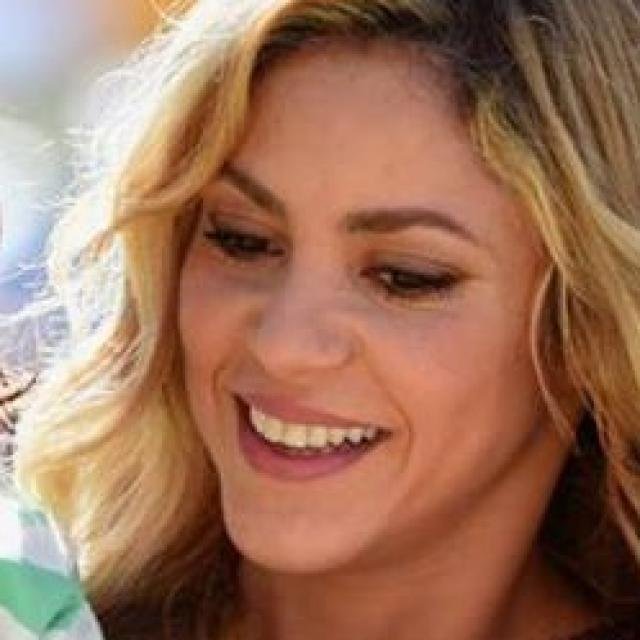Normal: (168, 35, 556, 573)
